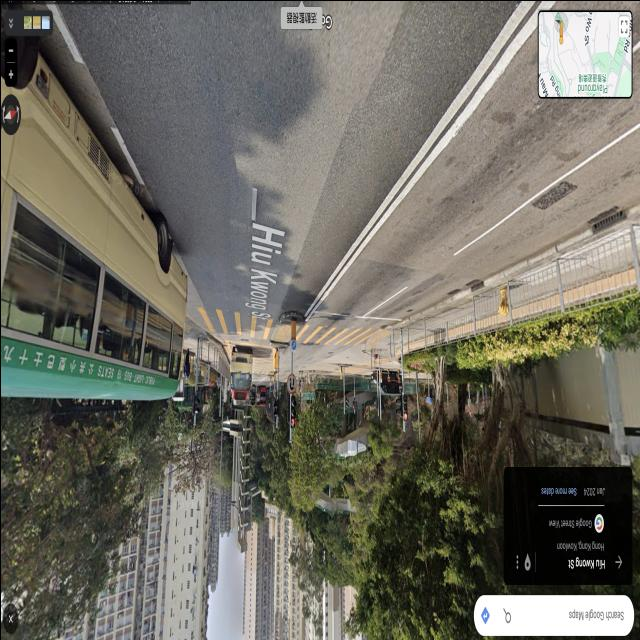Direction-Sign: (426, 397, 430, 402)
Order-Sign: (286, 372, 296, 393), (291, 341, 295, 348), (274, 378, 274, 381)
Warning-Sign: (467, 410, 471, 416)
